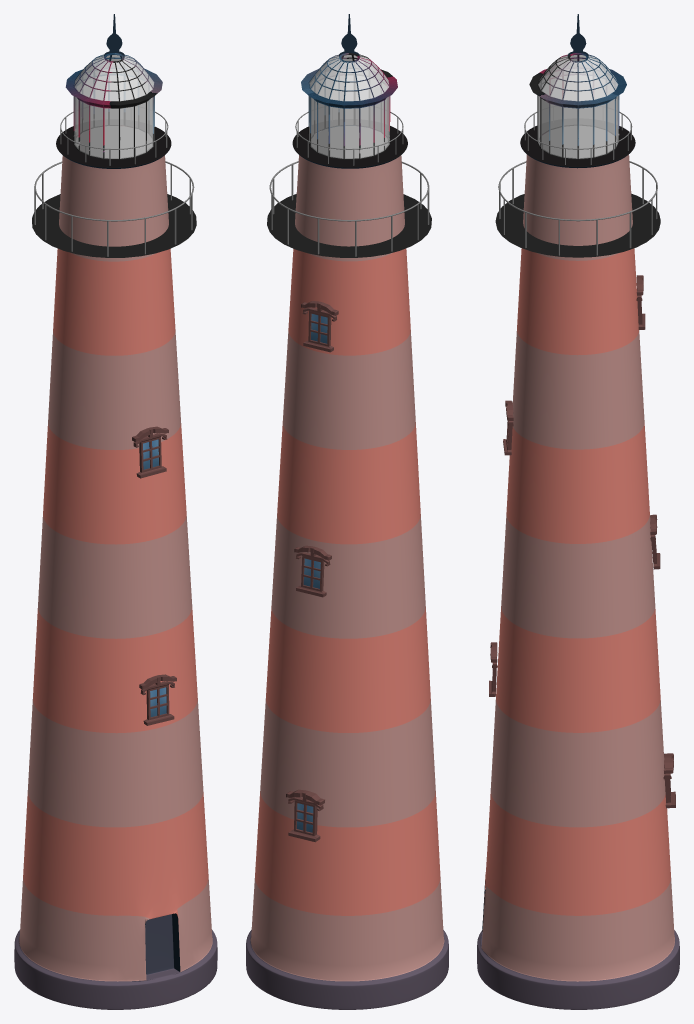
The model's file is lighthouse.glb.
The picture shows the model from 3 angles, left to right: view 1: azimuth 30°, elevation 25°; view 2: azimuth 150°, elevation 25°; view 3: azimuth 270°, elevation 25°; orthographic projection.
Visible parts, largest first — view 1: tower_1, glass top_3, Circle_6, Window.001_13, BezierCircle.002_10, Window_12, BezierCircle.003_11; view 2: tower_1, glass top_3, Circle_6, Window.003_15, BezierCircle.002_10, Window.002_14, Window.004_16, BezierCircle.003_11; view 3: tower_1, glass top_3, Circle_6, BezierCircle.002_10, BezierCircle.003_11, Window.003_15.
Boxes of the visible parts, x1=… form: tower_1: x1=14, y1=126, x2=217, y2=1009; glass top_3: x1=65, y1=53, x2=162, y2=159; Circle_6: x1=32, y1=194, x2=196, y2=257; Window.001_13: x1=139, y1=674, x2=176, y2=725; BezierCircle.002_10: x1=34, y1=161, x2=194, y2=256; Window_12: x1=132, y1=426, x2=168, y2=478; BezierCircle.003_11: x1=60, y1=111, x2=168, y2=165; tower_1: x1=246, y1=126, x2=448, y2=1009; glass top_3: x1=301, y1=53, x2=397, y2=159; Circle_6: x1=267, y1=194, x2=431, y2=257; Window.003_15: x1=286, y1=789, x2=324, y2=842; BezierCircle.002_10: x1=269, y1=161, x2=429, y2=256; Window.002_14: x1=294, y1=545, x2=331, y2=597; Window.004_16: x1=301, y1=301, x2=338, y2=352; BezierCircle.003_11: x1=295, y1=111, x2=403, y2=165; tower_1: x1=477, y1=126, x2=679, y2=1009; glass top_3: x1=529, y1=53, x2=626, y2=159; Circle_6: x1=495, y1=193, x2=660, y2=257; BezierCircle.002_10: x1=498, y1=161, x2=657, y2=255; BezierCircle.003_11: x1=524, y1=111, x2=632, y2=164; Window.003_15: x1=663, y1=753, x2=675, y2=808.
Size of the model in its own units: 2.48 by 12.86 by 2.48.
Materials: 3 (1 with a texture image).
